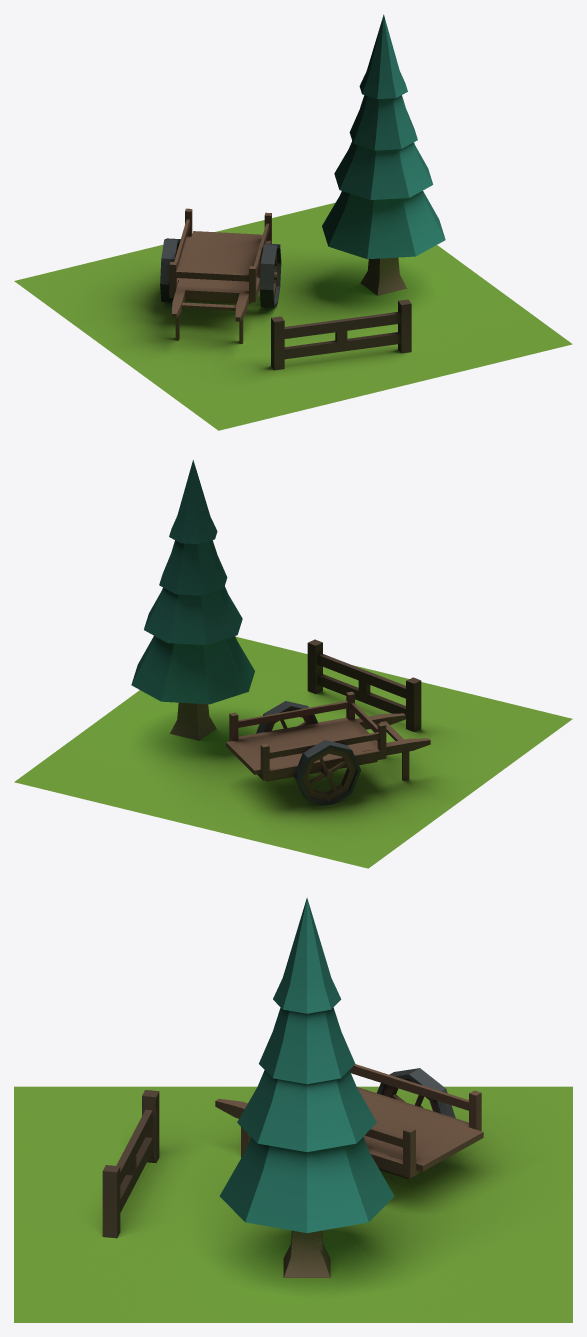
Rendered from bake.gltf.glb.
The picture shows the model from 3 angles, top to bottom: view 1: azimuth 30°, elevation 25°; view 2: azimuth 150°, elevation 25°; view 3: azimuth 270°, elevation 25°; orthographic projection. The views are drawn at different scales.
Visible parts, largest first — view 1: cart; view 2: cart; view 3: cart.
Part boxes in pixels (x1,y1,x2,y2): cart: (14,14,572,430); cart: (14,460,572,868); cart: (14,897,572,1322).
Size of the model in its own units: 7.9 by 5.84 by 7.9.
Materials: 6 (6 with a texture image).
